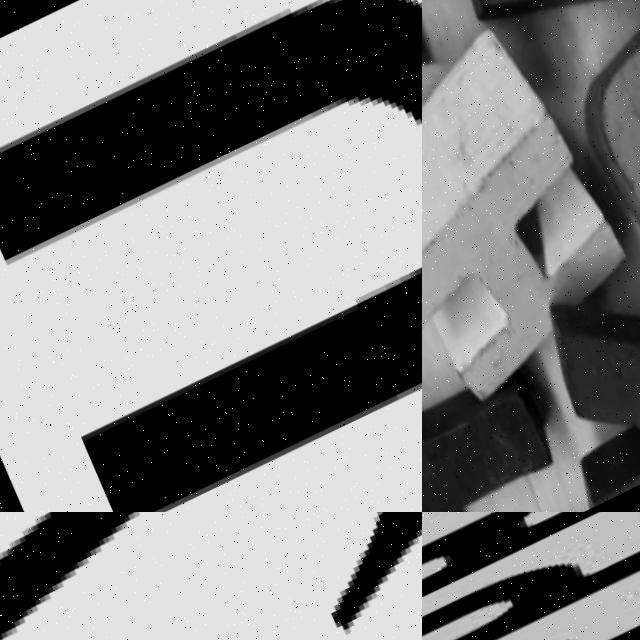3: (422, 521, 640, 640)
8: (422, 512, 640, 591)
9: (422, 512, 640, 640)
H: (422, 0, 640, 444), (422, 512, 640, 640)
K: (422, 603, 640, 640)
L: (0, 512, 422, 640)
R: (422, 0, 547, 215)
T: (422, 324, 596, 512)
U: (0, 0, 422, 512)
